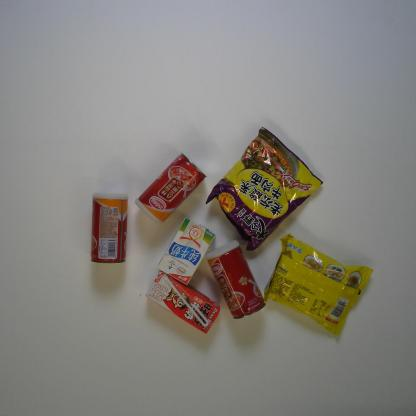Canned Food: (134, 153, 207, 223), (204, 239, 266, 320), (90, 191, 128, 264)
Instant Noodles: (205, 126, 324, 251), (263, 233, 374, 336)
Milk: (144, 270, 220, 334), (157, 216, 216, 286)
